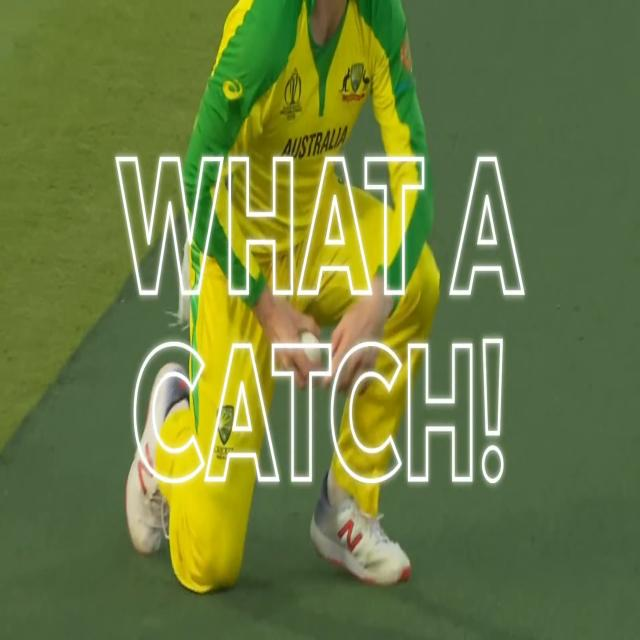ball: (292, 321, 330, 365)
